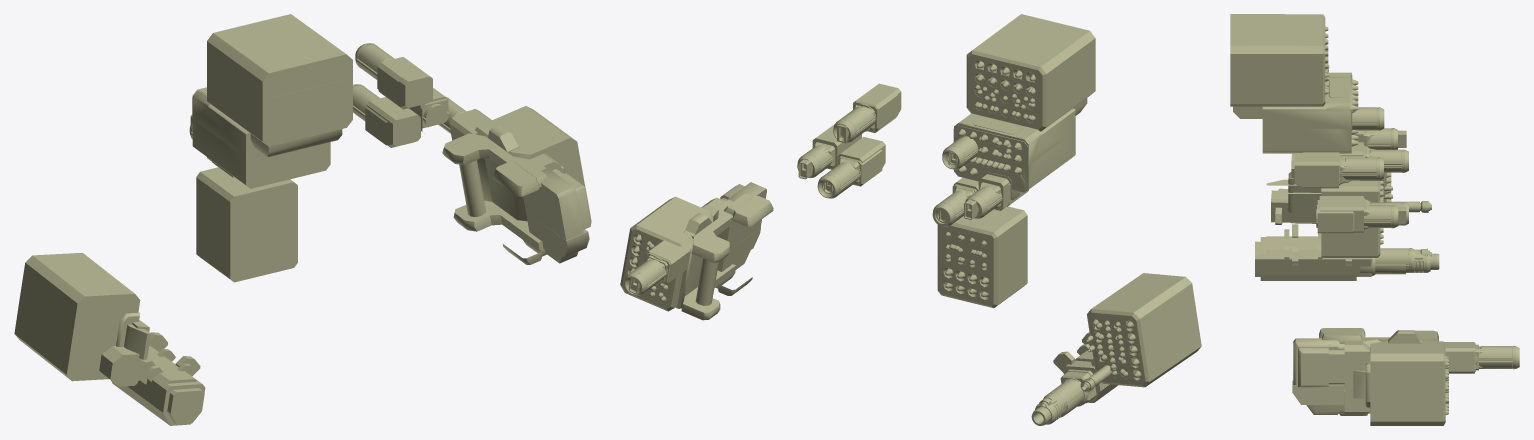
The model's file is BattlemasterWeapons.glb.
3 views of the same model, side by side, from view 1: azimuth 30°, elevation 25°; view 2: azimuth 150°, elevation 25°; view 3: azimuth 270°, elevation 25° (orthographic). The views are drawn at different scales.
Visible parts, largest first — view 1: Forearm_Right_EH1_Flamer, Torso_Left_MH1_Missile20, Forearm_Left_MH1_Missile20, Torso_Left_MH2_Missile15, Torso_Left_MH3_Missile15, Torso_Left_MH1_Missile10, Torso_Left_MH2_Missile2, Forearm_Left_MH1_Missile4, Forearm_Left_EH1_PPC, Torso_Left_MH1_Missile2, Forearm_Right_EH1_PPC, Torso_Left_MH2_Missile20 (+20 smaller); view 2: Torso_Left_MH1_Missile20, Forearm_Left_MH1_Missile20, Forearm_Right_EH1_Flamer, Torso_Left_MH3_Missile15, Torso_Left_MH2_Missile20, Torso_Left_MH1_Missile15, Forearm_Right_EH1_PPC, Forearm_Right_EH1_Laser, Torso_Left_MH2_Missile2, Forearm_Right_MH1_Missile20, Torso_Right_EH3_PPC, Torso_Right_EH1_PPC (+19 smaller); view 3: Forearm_Right_EH1_Flamer, Torso_Left_MH1_Missile20, Forearm_Right_MH1_Missile20, Torso_Left_MH3_Missile15, Forearm_Left_EH1_Laser, Torso_Left_MH2_Missile20, Torso_Right_EH2_PPC, Torso_Left_MH3_Missile4, Forearm_Right_EH1_PPC, Forearm_Right_EH1_Laser, Torso_Right_EH3_PPC, Torso_Left_MH1_Missile6 (+20 smaller).
Part boxes in pixels (left/top/right/bottom): Forearm_Right_EH1_Flamer: left=442, top=109, right=591, bottom=264; Torso_Left_MH1_Missile20: left=207, top=14, right=352, bottom=151; Forearm_Left_MH1_Missile20: left=14, top=254, right=133, bottom=381; Torso_Left_MH2_Missile15: left=204, top=182, right=297, bottom=267; Torso_Left_MH3_Missile15: left=192, top=87, right=330, bottom=188; Torso_Left_MH1_Missile10: left=262, top=79, right=352, bottom=156; Torso_Left_MH2_Missile2: left=196, top=167, right=297, bottom=247; Forearm_Left_MH1_Missile4: left=79, top=262, right=150, bottom=380; Forearm_Left_EH1_PPC: left=127, top=332, right=205, bottom=425; Torso_Left_MH1_Missile2: left=266, top=86, right=349, bottom=146; Forearm_Right_EH1_PPC: left=438, top=97, right=590, bottom=263; Torso_Left_MH2_Missile20: left=196, top=184, right=297, bottom=282; Torso_Left_MH1_Missile20: left=966, top=14, right=1095, bottom=131; Forearm_Left_MH1_Missile20: left=1088, top=273, right=1201, bottom=387; Forearm_Right_EH1_Flamer: left=628, top=182, right=773, bottom=319; Torso_Left_MH3_Missile15: left=954, top=108, right=1075, bottom=200; Torso_Left_MH2_Missile20: left=937, top=227, right=1027, bottom=308; Torso_Left_MH1_Missile15: left=966, top=66, right=1094, bottom=131; Forearm_Right_EH1_PPC: left=624, top=182, right=767, bottom=297; Forearm_Right_EH1_Laser: left=646, top=186, right=773, bottom=320; Torso_Left_MH2_Missile2: left=949, top=210, right=1027, bottom=276; Forearm_Right_MH1_Missile20: left=620, top=196, right=686, bottom=311; Torso_Right_EH3_PPC: left=833, top=87, right=897, bottom=142; Torso_Right_EH1_PPC: left=817, top=149, right=882, bottom=198; Forearm_Right_EH1_Flamer: left=1292, top=328, right=1484, bottom=415; Torso_Left_MH1_Missile20: left=1230, top=14, right=1328, bottom=118; Forearm_Right_MH1_Missile20: left=1370, top=342, right=1448, bottom=425; Torso_Left_MH3_Missile15: left=1262, top=72, right=1358, bottom=153; Forearm_Left_EH1_Laser: left=1255, top=227, right=1356, bottom=280; Torso_Left_MH2_Missile20: left=1321, top=192, right=1383, bottom=257; Torso_Right_EH2_PPC: left=1316, top=200, right=1398, bottom=233; Torso_Left_MH3_Missile4: left=1263, top=75, right=1352, bottom=128; Forearm_Right_EH1_PPC: left=1293, top=329, right=1519, bottom=415; Forearm_Right_EH1_Laser: left=1292, top=328, right=1480, bottom=415; Torso_Right_EH3_PPC: left=1303, top=152, right=1383, bottom=185; Torso_Left_MH1_Missile6: left=1235, top=63, right=1328, bottom=102.
Bounding box in the file's own units: 2.34 × 1.38 × 1.24.
